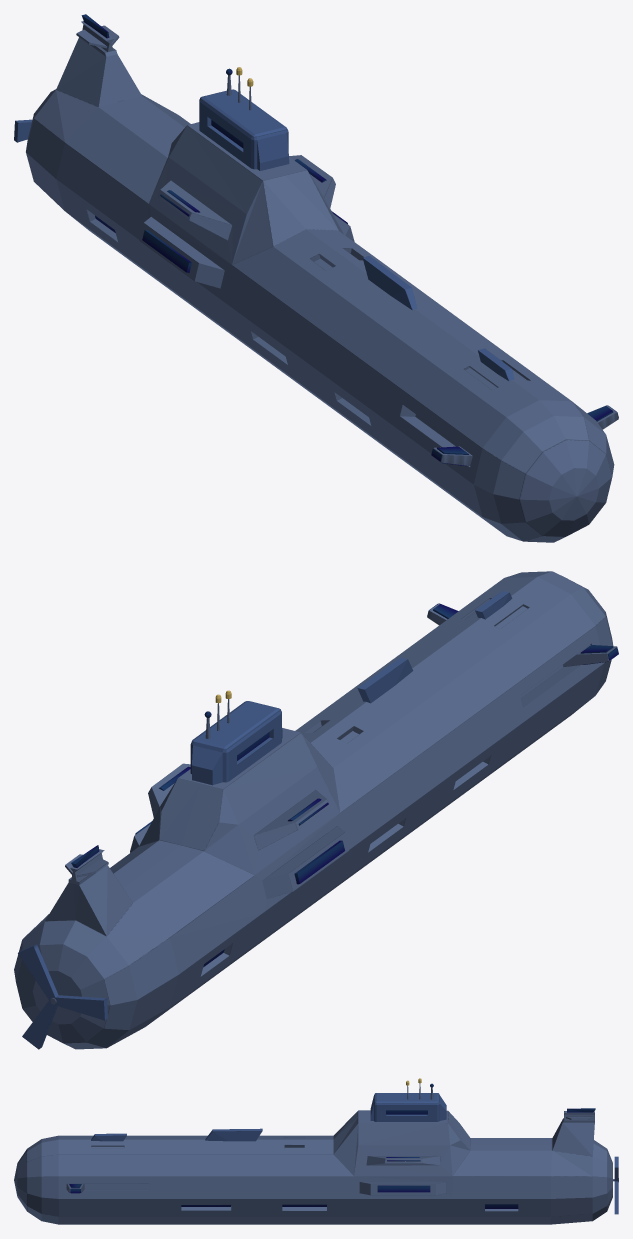
File: submarine.glb
3 views of the same model, one above another, from view 1: azimuth 30°, elevation 25°; view 2: azimuth 150°, elevation 25°; view 3: azimuth 270°, elevation 25° (orthographic). The views are drawn at different scales.
Parts seen in each view (by area): view 1: Node; view 2: Node; view 3: Node.
Part boxes in pixels (x1=…): Node: x1=14, y1=14, x2=618, y2=542; Node: x1=14, y1=571, x2=618, y2=1049; Node: x1=14, y1=1078, x2=618, y2=1224.
Size of the model in its own units: 136 by 178 by 677.
Materials: 1 (1 with a texture image).
